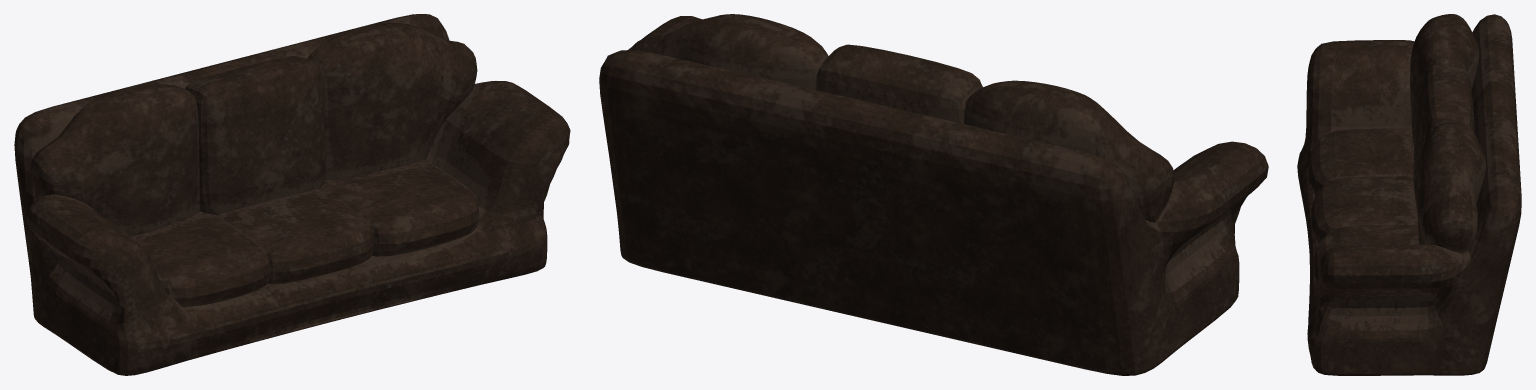
File: oldsofa.obj
The picture shows the model from 3 angles, left to right: view 1: azimuth 30°, elevation 25°; view 2: azimuth 150°, elevation 25°; view 3: azimuth 270°, elevation 25°; orthographic projection. The views are drawn at different scales.
Parts seen in each view (by area): view 1: sofa_old2; view 2: sofa_old2; view 3: sofa_old2.
Boxes of the visible parts, x1,y1,x2,y2 form: sofa_old2: (14,14,570,375); sofa_old2: (599,14,1268,375); sofa_old2: (1297,14,1521,375).
Size of the model in its own units: 138 by 55.67 by 57.79.
